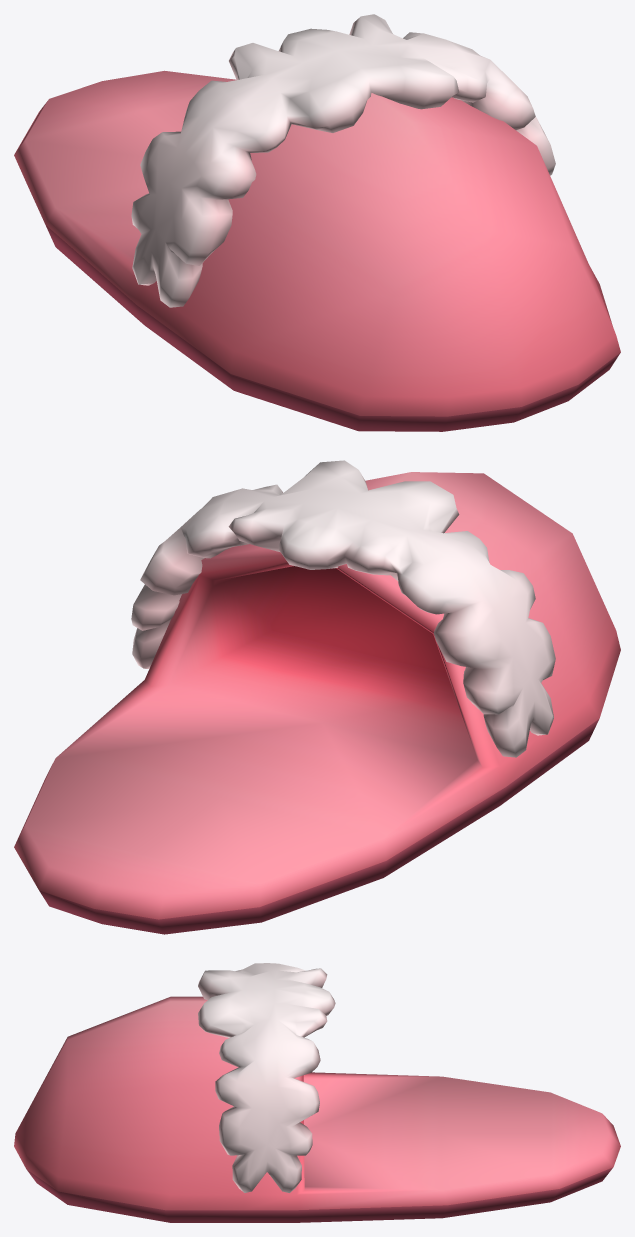
Rendered from Doll_OB_Slipper_001.FBX.
3 renders of one model, top to bottom at view 1: azimuth 30°, elevation 25°; view 2: azimuth 150°, elevation 25°; view 3: azimuth 270°, elevation 25°, orthographic. The views are drawn at different scales.
Parts seen in each view (by area): view 1: Doll_OB_Slipper_001; view 2: Doll_OB_Slipper_001; view 3: Doll_OB_Slipper_001.
Boxes of the visible parts, left/top/right/bottom form: Doll_OB_Slipper_001: left=14, top=14, right=620, bottom=431; Doll_OB_Slipper_001: left=14, top=460, right=620, bottom=934; Doll_OB_Slipper_001: left=14, top=963, right=620, bottom=1222.
Size of the model in its own units: 10.43 by 6.22 by 19.72.
